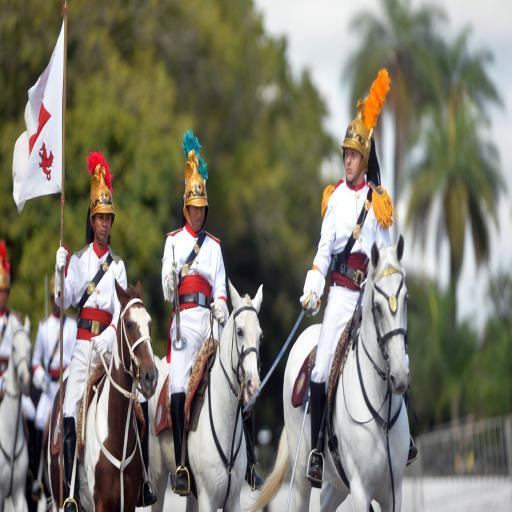horse: (245, 232, 411, 512), (134, 278, 264, 512), (46, 276, 158, 512), (1, 316, 31, 512), (23, 388, 47, 512)
